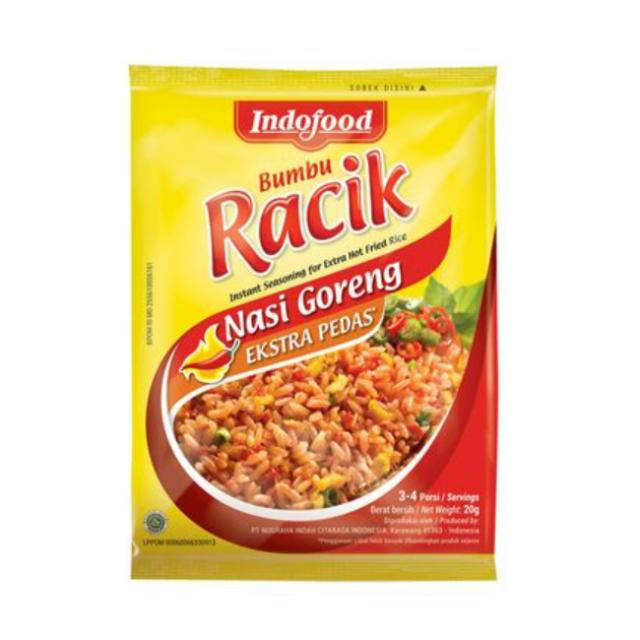KemasanPlastik: (103, 50, 512, 593)
